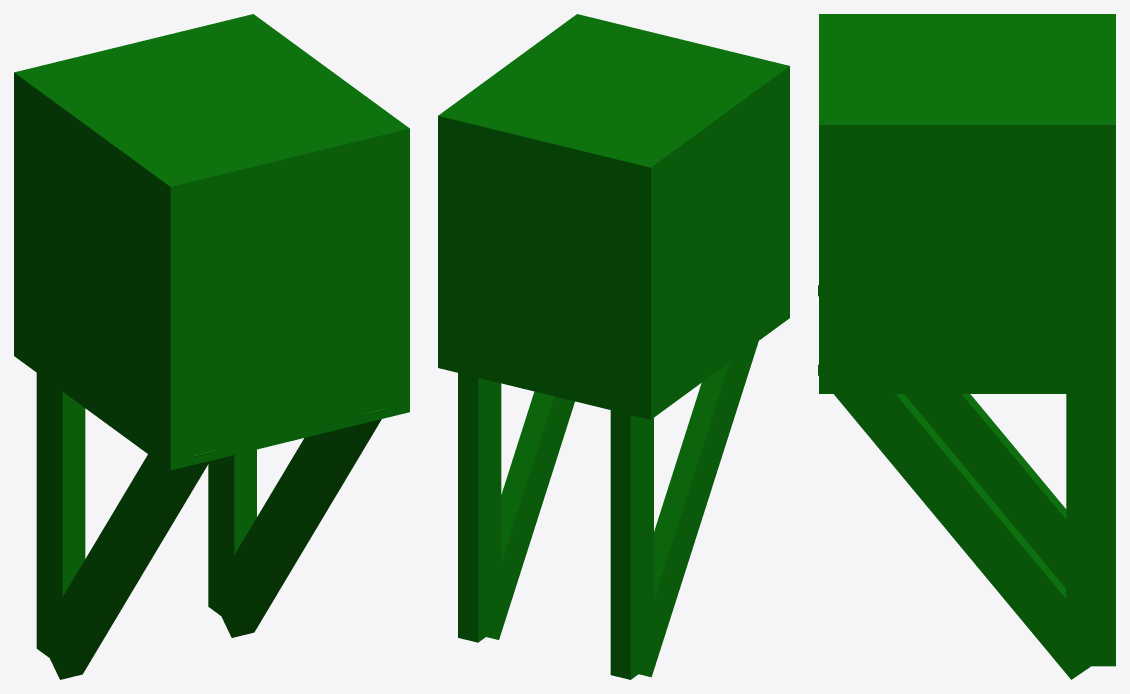
The model's file is Image-1710907725798-2281074172288_43-HC50.fbx.
3 views of the same model, side by side, from view 1: azimuth 30°, elevation 25°; view 2: azimuth 150°, elevation 25°; view 3: azimuth 270°, elevation 25° (orthographic). The views are drawn at different scales.
Visible parts, largest first — view 1: BOX 1 of EQUIPMENT /43-HC50, BOX 3 of EQUIPMENT /43-HC50, BOX 5 of EQUIPMENT /43-HC50, BOX 2 of EQUIPMENT /43-HC50, BOX 4 of EQUIPMENT /43-HC50; view 2: BOX 1 of EQUIPMENT /43-HC50, BOX 3 of EQUIPMENT /43-HC50, BOX 4 of EQUIPMENT /43-HC50, BOX 2 of EQUIPMENT /43-HC50, BOX 5 of EQUIPMENT /43-HC50; view 3: BOX 1 of EQUIPMENT /43-HC50, BOX 5 of EQUIPMENT /43-HC50, BOX 4 of EQUIPMENT /43-HC50, BOX 3 of EQUIPMENT /43-HC50.
Part boxes in pixels (left/top/right/bottom): BOX 1 of EQUIPMENT /43-HC50: left=14, top=14, right=409, bottom=470; BOX 3 of EQUIPMENT /43-HC50: left=39, top=450, right=215, bottom=679; BOX 5 of EQUIPMENT /43-HC50: left=212, top=408, right=387, bottom=637; BOX 2 of EQUIPMENT /43-HC50: left=36, top=373, right=85, bottom=667; BOX 4 of EQUIPMENT /43-HC50: left=208, top=449, right=256, bottom=625; BOX 1 of EQUIPMENT /43-HC50: left=438, top=14, right=789, bottom=419; BOX 3 of EQUIPMENT /43-HC50: left=633, top=341, right=758, bottom=677; BOX 4 of EQUIPMENT /43-HC50: left=458, top=373, right=501, bottom=642; BOX 2 of EQUIPMENT /43-HC50: left=610, top=410, right=653, bottom=679; BOX 5 of EQUIPMENT /43-HC50: left=486, top=391, right=574, bottom=639; BOX 1 of EQUIPMENT /43-HC50: left=819, top=14, right=1115, bottom=393; BOX 5 of EQUIPMENT /43-HC50: left=818, top=364, right=1090, bottom=679; BOX 4 of EQUIPMENT /43-HC50: left=1066, top=394, right=1115, bottom=666; BOX 3 of EQUIPMENT /43-HC50: left=818, top=285, right=1066, bottom=588.
Bounding box in the file's own units: 0.53 × 0.6015 × 1.26.
